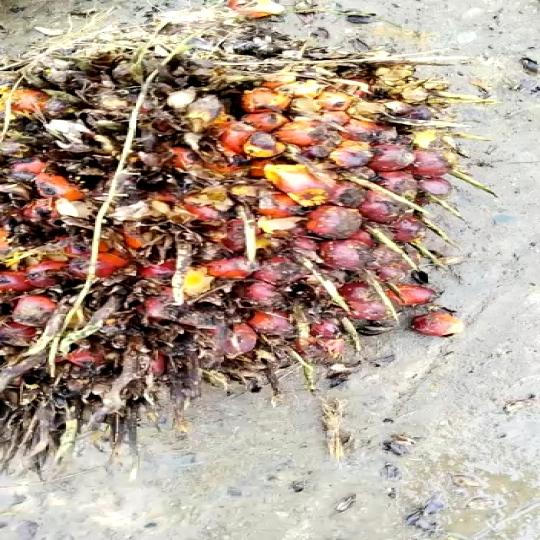terlalu masak: (0, 12, 478, 446)
